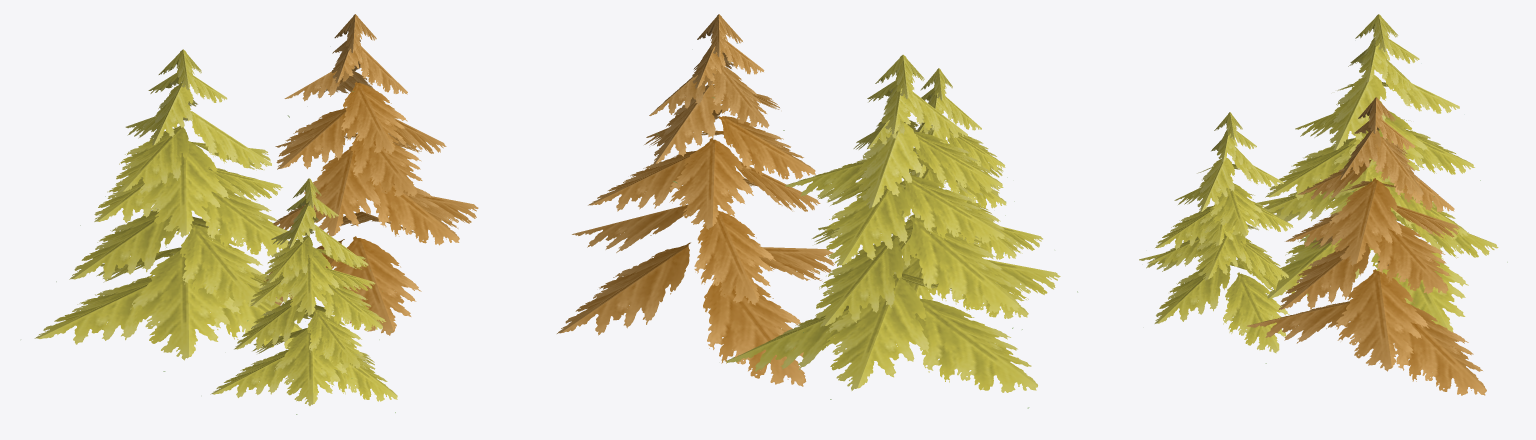
The model's file is area_12_8.FBX.
3 views of the same model, side by side, from view 1: azimuth 30°, elevation 25°; view 2: azimuth 150°, elevation 25°; view 3: azimuth 270°, elevation 25° (orthographic). The views are drawn at different scales.
Parts seen in each view (by area): view 1: area_12_8; view 2: area_12_8; view 3: area_12_8.
Boxes of the visible parts, <box> form: area_12_8: <box>34,14,478,414</box>; area_12_8: <box>557,14,1077,408</box>; area_12_8: <box>1139,14,1507,395</box>.
Bounding box in the file's own units: 9.38 × 6.22 × 7.67.
